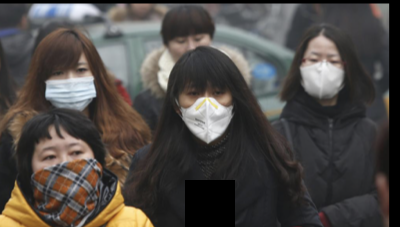with_mask: (29, 139, 98, 220), (178, 80, 235, 142), (43, 59, 100, 114), (300, 50, 347, 100)
without_mask: (171, 34, 210, 62)
